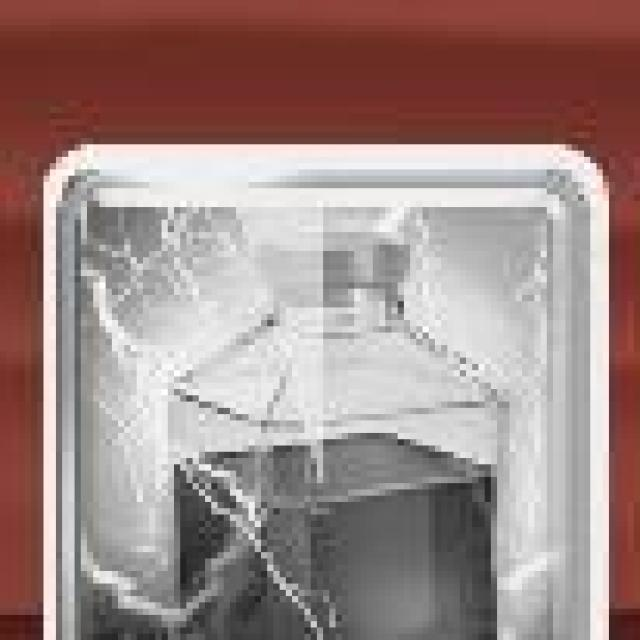Lightning: (45, 142, 603, 640)
